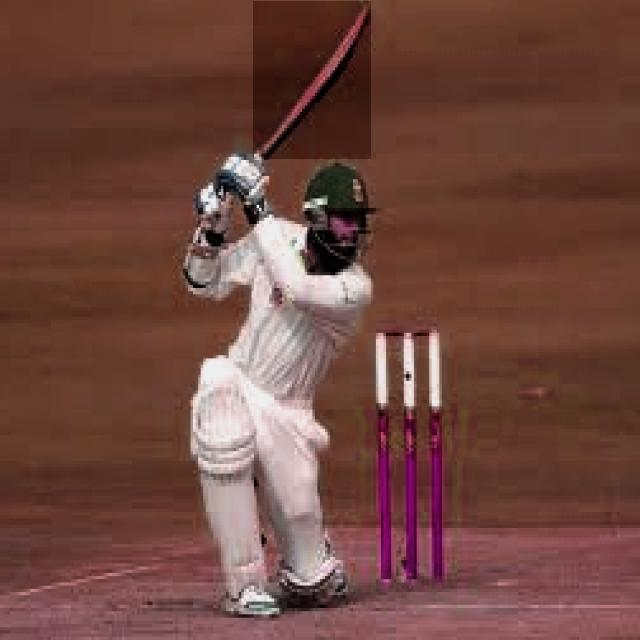bat: (256, 3, 380, 160)
